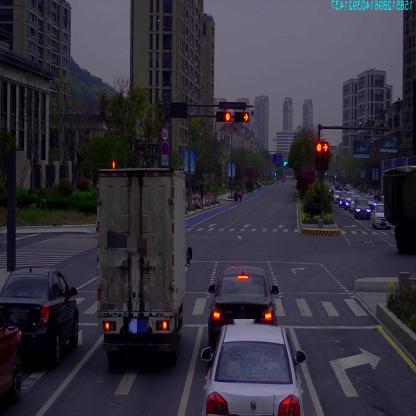traffic-light: (234, 112, 250, 123), (217, 111, 231, 120)
